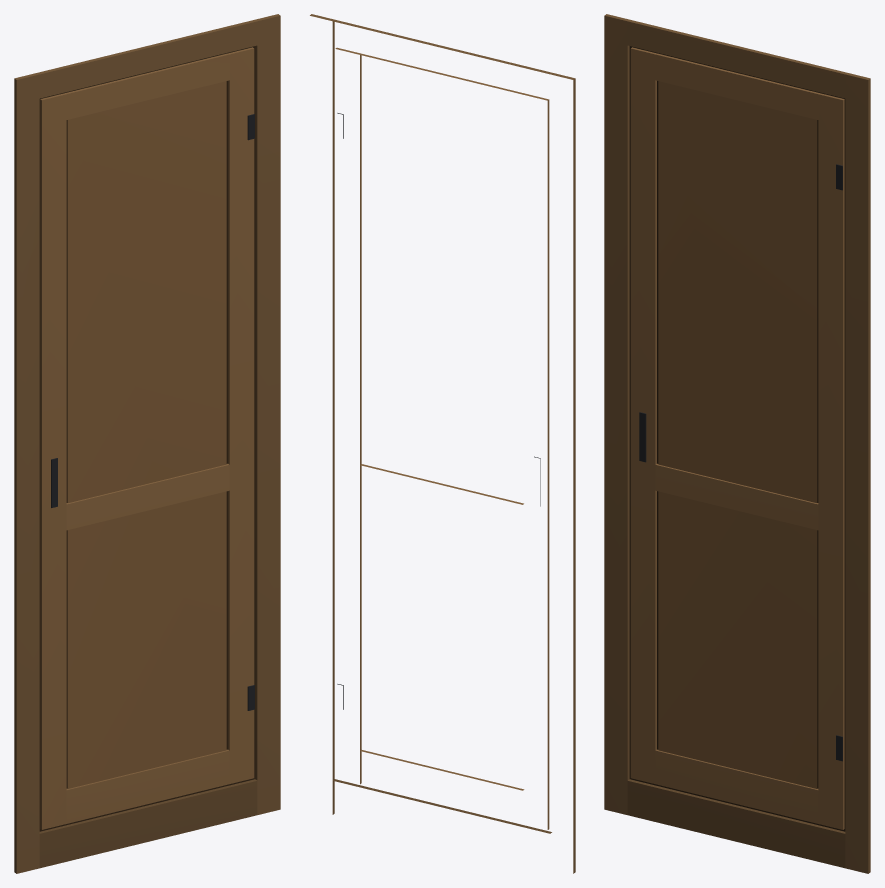
The model's file is cabinet.closet_front.oak.glb.
3 views of the same model, side by side, from view 1: azimuth 30°, elevation 25°; view 2: azimuth 150°, elevation 25°; view 3: azimuth 330°, elevation 25° (orthographic).
Parts seen in each view (by area): view 1: cabinet_closet_front_oak; view 2: cabinet_closet_front_oak; view 3: cabinet_closet_front_oak.
Boxes of the visible parts, x1,y1,x2,y2 form: cabinet_closet_front_oak: (14,14,280,873); cabinet_closet_front_oak: (310,14,575,873); cabinet_closet_front_oak: (604,14,870,873).
Size of what is drawn, in the model's own units: 0.8 by 2.3 by 0.012.
